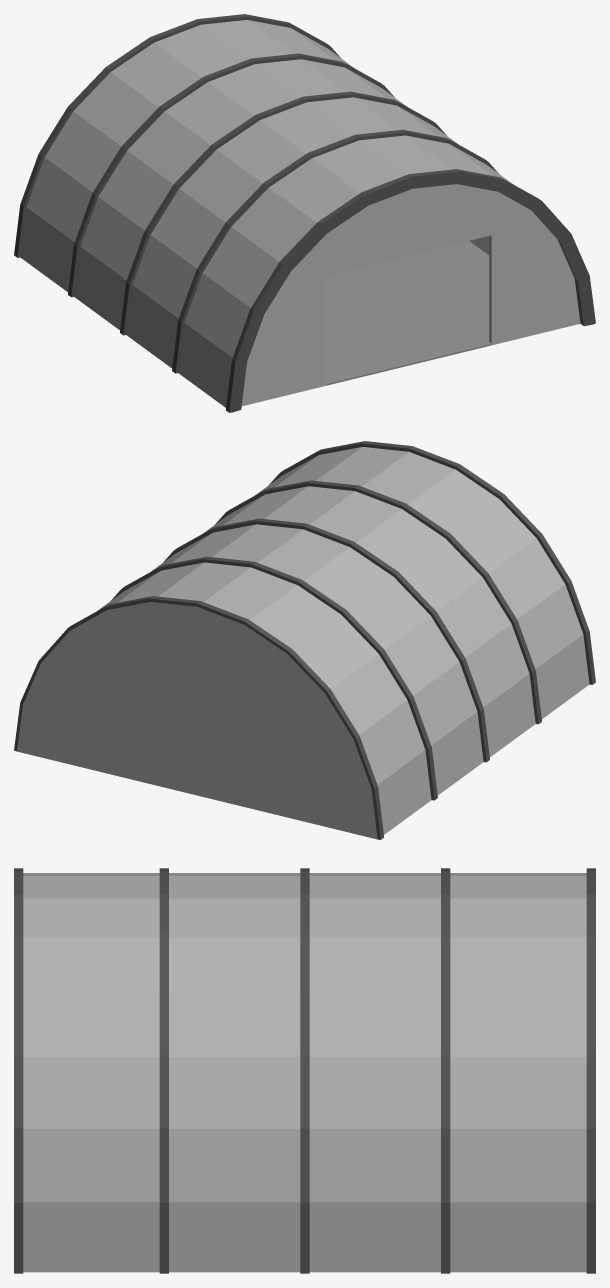
The model's file is Garage1.fbx.
3 views of the same model, one above another, from view 1: azimuth 30°, elevation 25°; view 2: azimuth 150°, elevation 25°; view 3: azimuth 270°, elevation 25° (orthographic). The views are drawn at different scales.
Parts seen in each view (by area): view 1: Cylinder; view 2: Cylinder; view 3: Cylinder.
Part boxes in pixels (bbox=[...]): Cylinder: bbox=[14, 14, 595, 412]; Cylinder: bbox=[14, 441, 595, 839]; Cylinder: bbox=[14, 868, 595, 1273].
Size of the model in its own units: 1220 by 1240 by 610.
